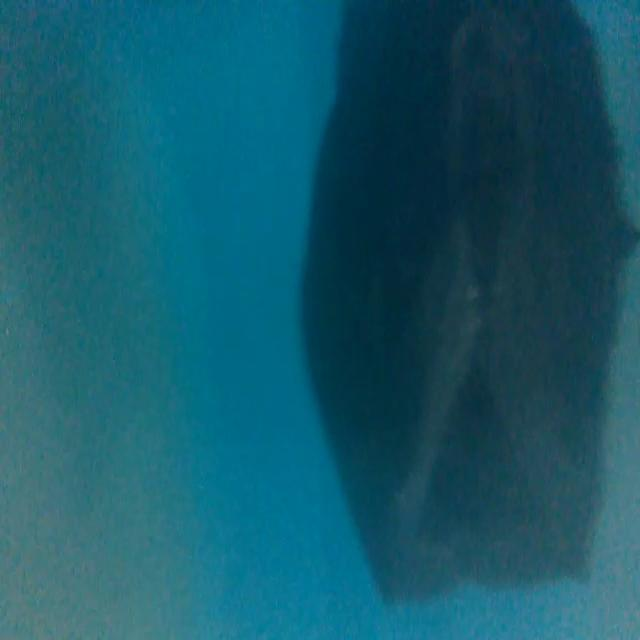plastic bags: (319, 0, 637, 605)
